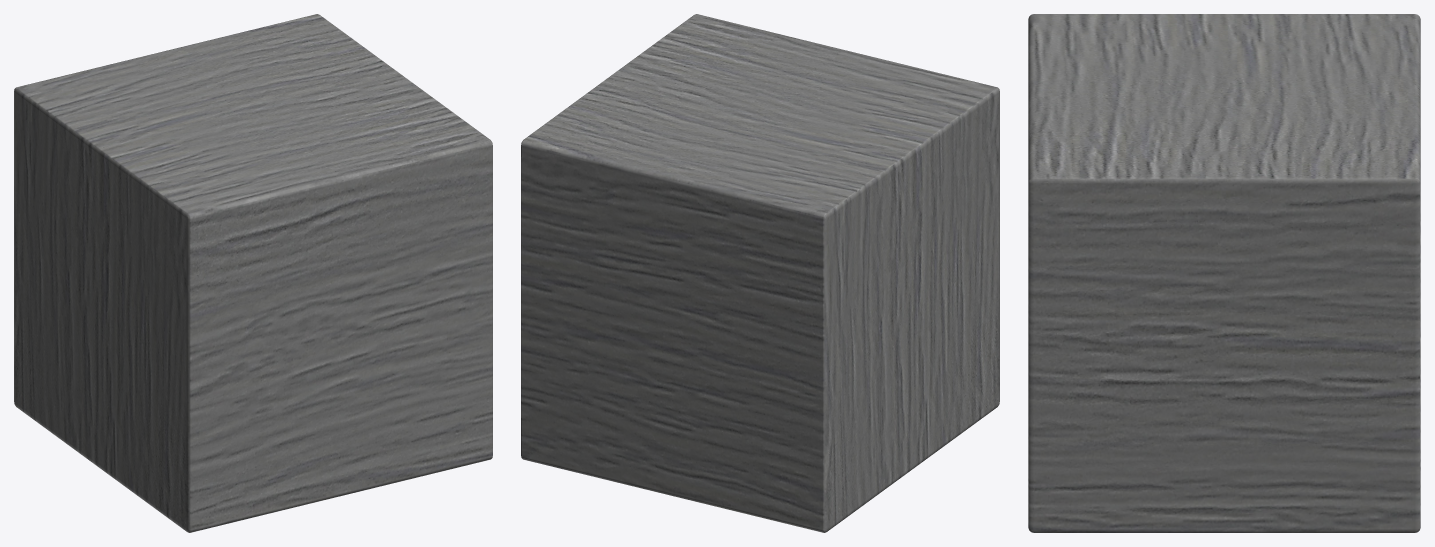
File: WallBlock002.obj
The picture shows the model from 3 angles, left to right: view 1: azimuth 30°, elevation 25°; view 2: azimuth 150°, elevation 25°; view 3: azimuth 270°, elevation 25°; orthographic projection. The views are drawn at different scales.
Visible parts, largest first — view 1: pCube1; view 2: pCube1; view 3: pCube1.
Part boxes in pixels (x1=…): pCube1: x1=14, y1=14, x2=492, y2=532; pCube1: x1=521, y1=14, x2=999, y2=532; pCube1: x1=1028, y1=14, x2=1420, y2=532.
Size of the model in its own units: 100 by 100 by 100.
Materials: 2 (2 with a texture image).
